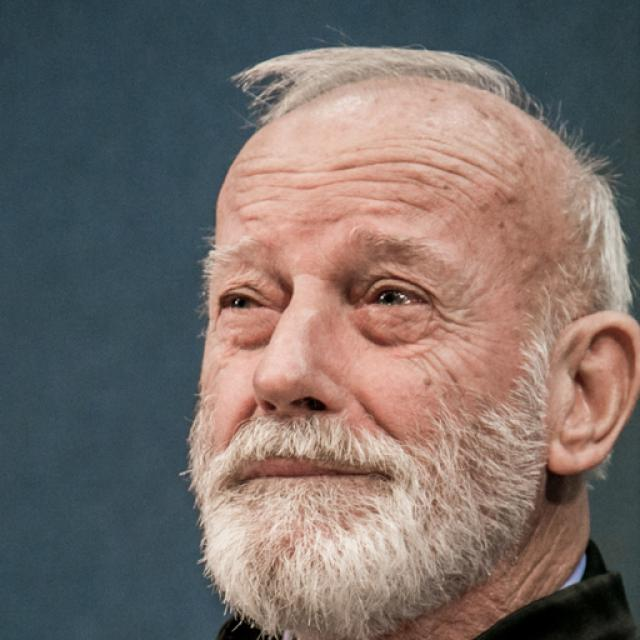Acne: (415, 371, 440, 388)
Wrinkle: (234, 168, 461, 213), (239, 155, 487, 191), (335, 190, 430, 216), (436, 174, 477, 208)
